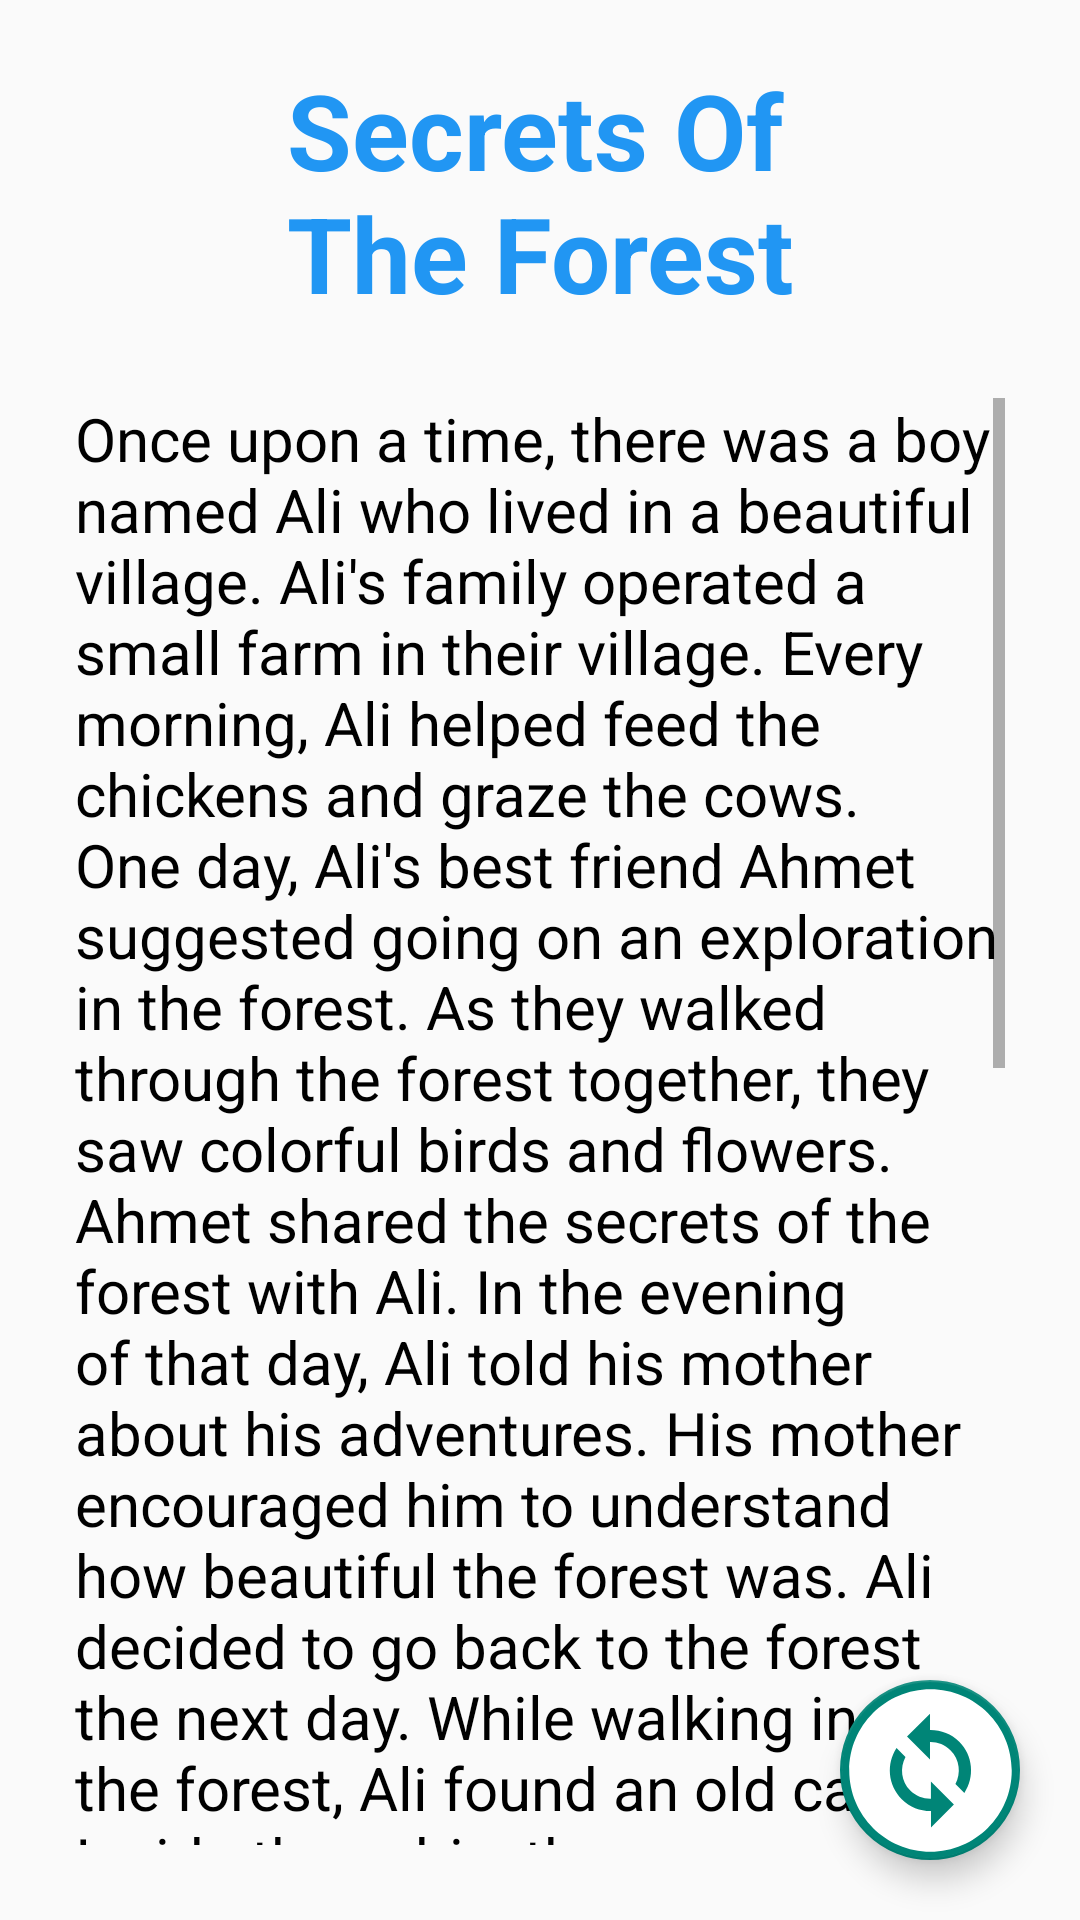

Icon click points for this 1080px x 1920px phone screenshot, format [x,y]:
change circle: [930,1770]
